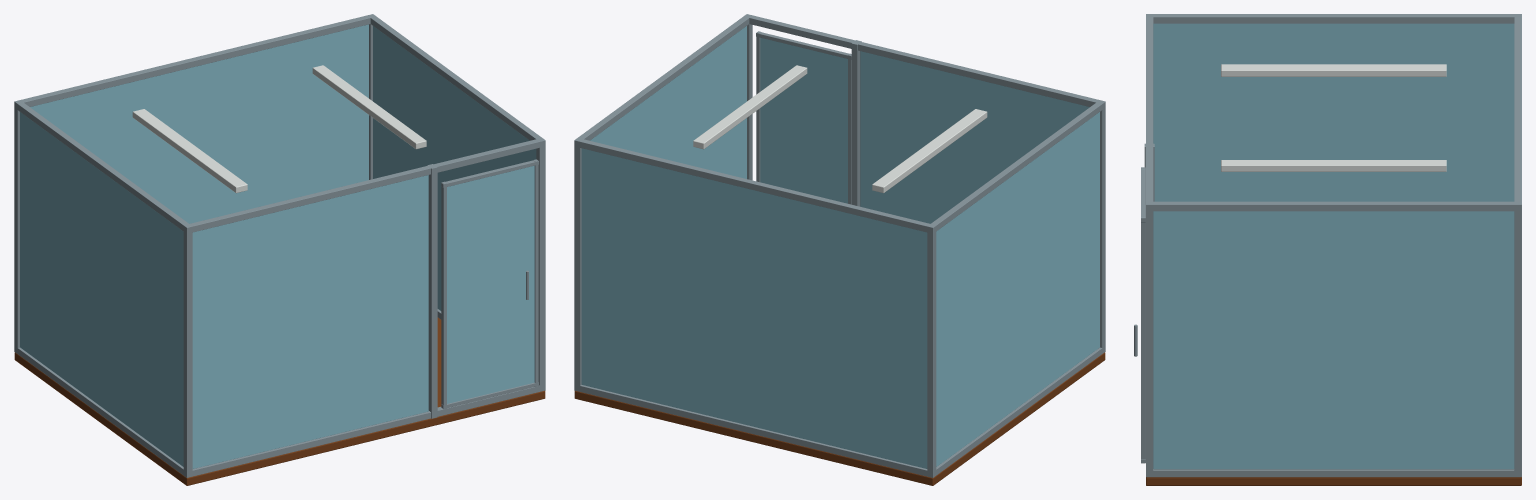
The model's file is edited.glb.
The picture shows the model from 3 angles, left to right: view 1: azimuth 30°, elevation 25°; view 2: azimuth 150°, elevation 25°; view 3: azimuth 270°, elevation 25°; orthographic projection. The views are drawn at different scales.
Visible parts, largest first — view 1: WALL_Front, WALL_Side, WALL_Rear, DOOR_Clear, WALL_Side.001, FLOOR, FRAME_End.001, FRAME_End.003, FRAME_End, DOOR_Jamb, FRAME_Post, FRAME_Side.001 (+10 smaller); view 2: WALL_Rear, WALL_Side, WALL_Front, DOOR_Clear, WALL_Side.001, FLOOR, FRAME_End.003, FRAME_End.001, FRAME_End.002, FRAME_Post.001, FRAME_Side.001, FRAME_Side.003 (+10 smaller); view 3: WALL_Side.001, WALL_Side, FRAME_Side.003, FRAME_Side.001, FLOOR, FRAME_Side.002, CEILING_LightRail.001, CEILING_LightRail, FRAME_Post.002, FRAME_Post.003, FRAME_End.003, FRAME_End.001 (+1 smaller).
Part boxes in pixels (left/top/right/bottom): WALL_Front: left=192, top=175, right=428, bottom=468; WALL_Side: left=20, top=112, right=183, bottom=466; WALL_Rear: left=30, top=24, right=368, bottom=223; DOOR_Clear: left=447, top=166, right=534, bottom=403; WALL_Side.001: left=373, top=26, right=536, bottom=310; FLOOR: left=14, top=317, right=545, bottom=485; FRAME_End.001: left=183, top=139, right=545, bottom=233; FRAME_End.003: left=15, top=14, right=375, bottom=106; FRAME_End: left=184, top=385, right=543, bottom=477; DOOR_Jamb: left=427, top=164, right=437, bottom=418; FRAME_Post: left=183, top=225, right=192, bottom=477; FRAME_Side.001: left=14, top=101, right=191, bottom=233; WALL_Rear: left=581, top=148, right=927, bottom=468; WALL_Side: left=936, top=112, right=1099, bottom=466; WALL_Front: left=860, top=51, right=1089, bottom=223; DOOR_Clear: left=760, top=37, right=847, bottom=203; WALL_Side.001: left=590, top=26, right=746, bottom=178; FLOOR: left=574, top=352, right=1105, bottom=485; FRAME_End.003: left=574, top=138, right=936, bottom=233; FRAME_End.001: left=744, top=14, right=1105, bottom=106; FRAME_End.002: left=577, top=385, right=936, bottom=477; FRAME_Post.001: left=927, top=226, right=936, bottom=477; FRAME_Side.001: left=929, top=102, right=1105, bottom=232; FRAME_Side.003: left=574, top=15, right=751, bottom=144; WALL_Side.001: left=1153, top=211, right=1514, bottom=469; WALL_Side: left=1153, top=23, right=1514, bottom=201; FRAME_Side.003: left=1146, top=201, right=1521, bottom=211; FRAME_Side.001: left=1146, top=14, right=1521, bottom=23; FLOOR: left=1146, top=477, right=1521, bottom=485; FRAME_Side.002: left=1146, top=469, right=1521, bottom=477; CEILING_LightRail.001: left=1221, top=64, right=1446, bottom=76; CEILING_LightRail: left=1221, top=160, right=1446, bottom=171; FRAME_Post.002: left=1146, top=201, right=1153, bottom=473; FRAME_Post.003: left=1514, top=201, right=1521, bottom=471; FRAME_End.003: left=1514, top=14, right=1521, bottom=211; FRAME_End.001: left=1146, top=14, right=1153, bottom=211.
Size of the model in its own units: 3.6 by 2.48 by 3.09.
